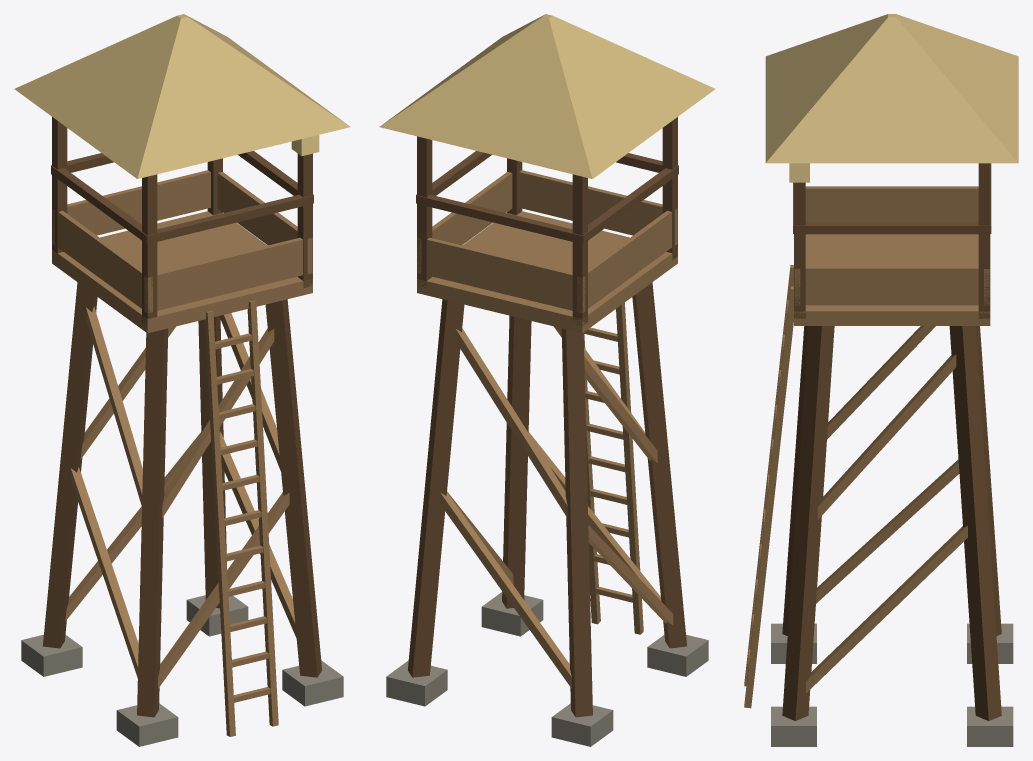
Rendered from Watch_Tower.glb.
3 views of the same model, side by side, from view 1: azimuth 30°, elevation 25°; view 2: azimuth 150°, elevation 25°; view 3: azimuth 270°, elevation 25° (orthographic). The views are drawn at different scales.
Visible parts, largest first — view 1: Watch_Tower; view 2: Watch_Tower; view 3: Watch_Tower.
Part boxes in pixels (x1=…): Watch_Tower: x1=14, y1=14, x2=350, y2=746; Watch_Tower: x1=379, y1=14, x2=715, y2=746; Watch_Tower: x1=744, y1=14, x2=1018, y2=746.
Size of the model in its own units: 2.19 by 6.51 by 2.38.
Materials: 1 (1 with a texture image).
